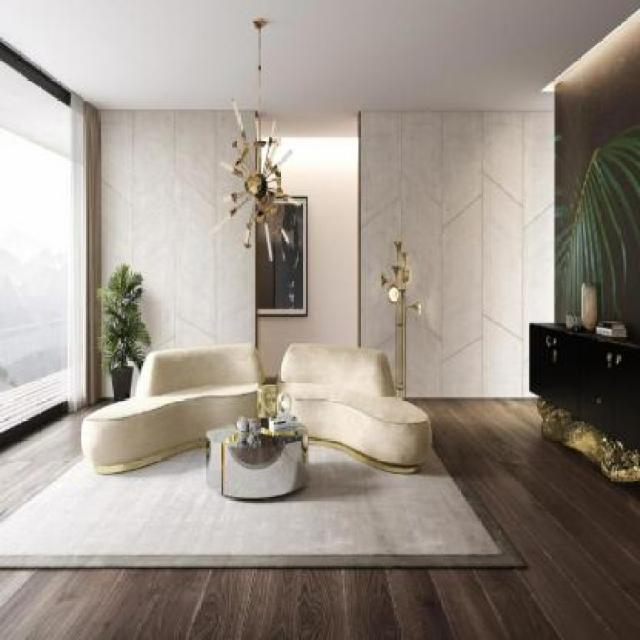Floor: (0, 397, 640, 584), (0, 398, 115, 511)
